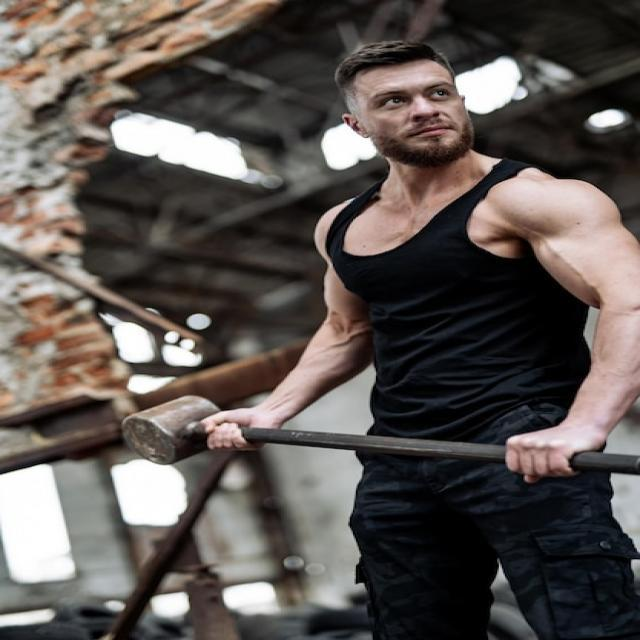hammer: (107, 387, 640, 477)
